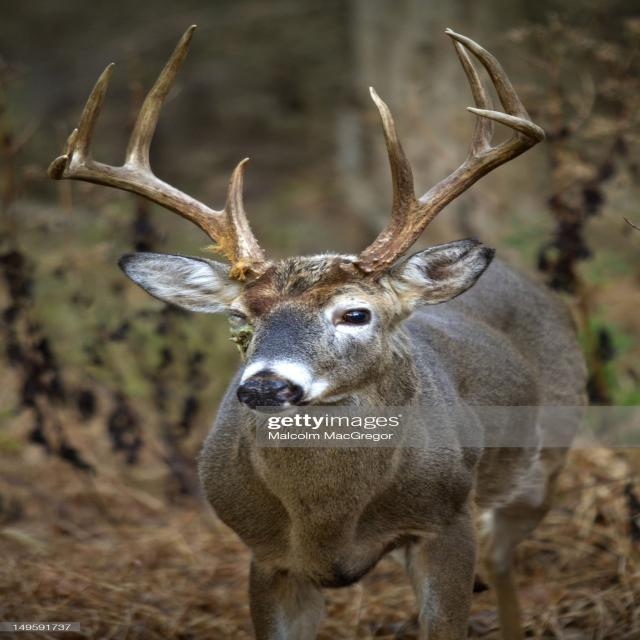L-F: (340, 106, 546, 289)
L-G1: (369, 86, 418, 216)
R-F: (46, 155, 267, 284)
R-G1: (221, 157, 250, 216)
R-G2: (123, 24, 197, 172)
R-G3: (73, 62, 115, 162)
